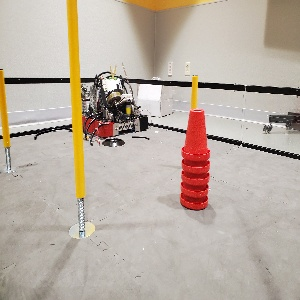Red_5: (179, 108, 209, 209)
